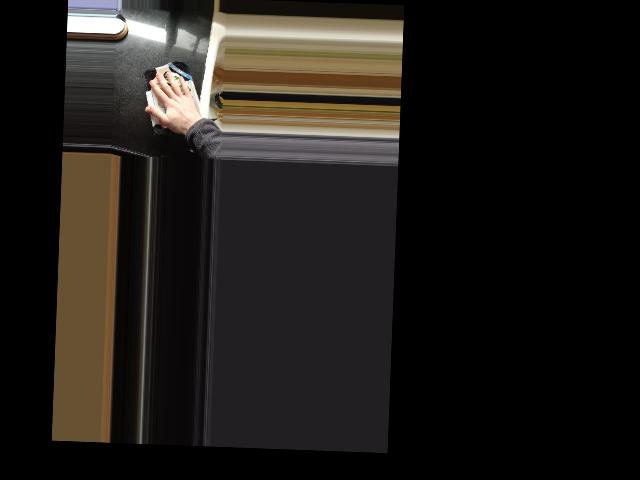cheese: (139, 58, 208, 137)
